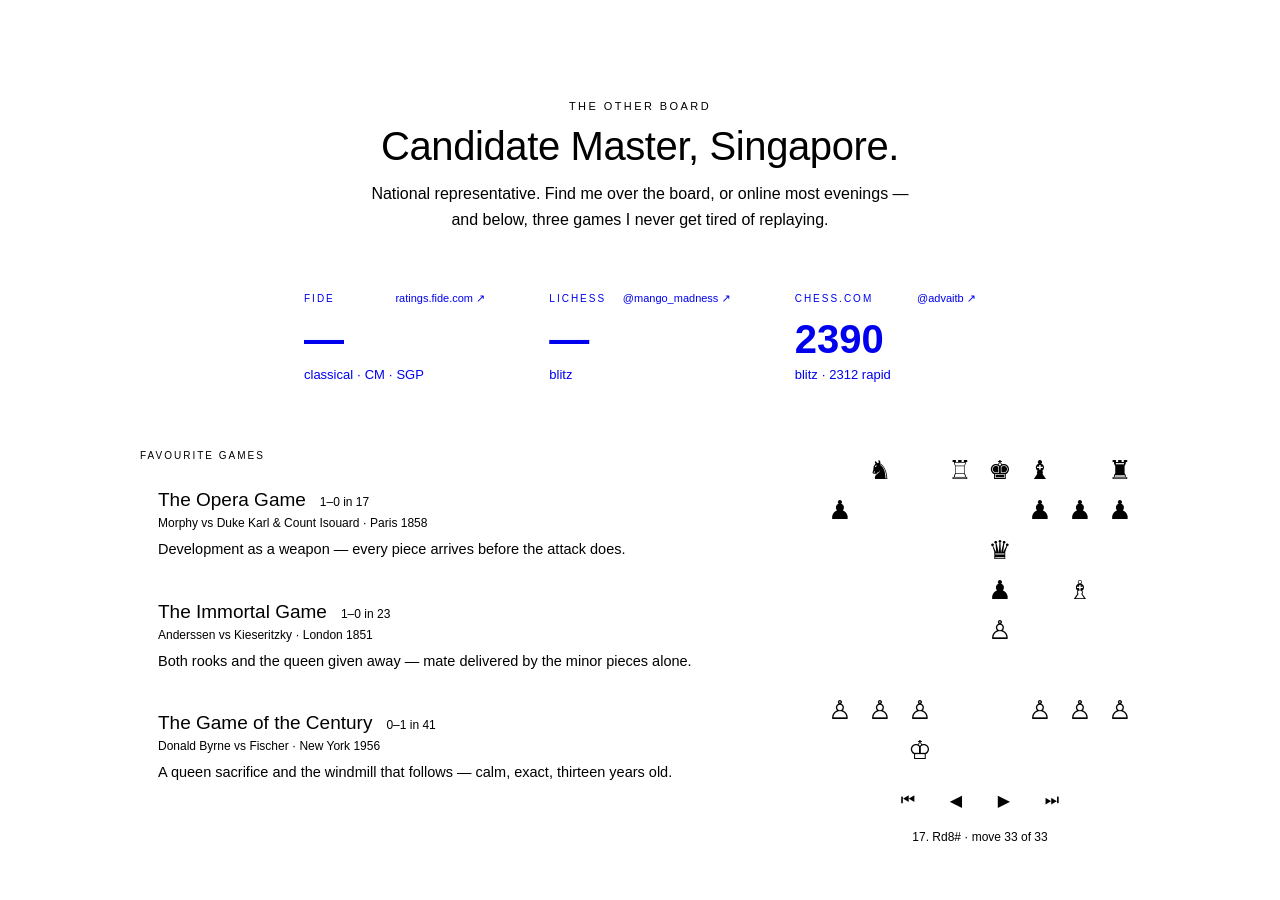
Scenario: stepping back from the final position shows the previous move
Click the button named "Back": (956,800) [938,782,974,818]
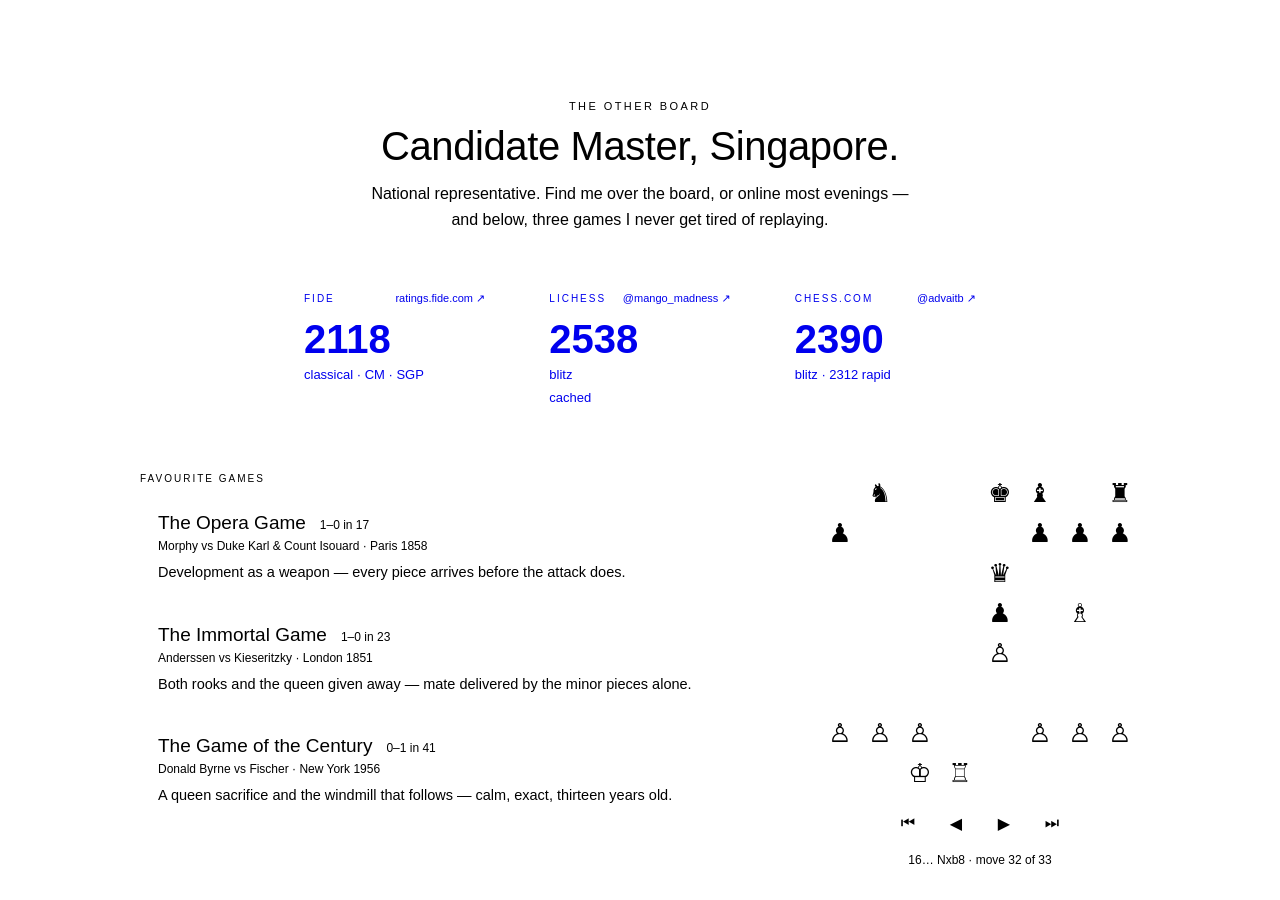
Expected: the text "16… Nxb8 · move 32 of 33" is shown, [908,853,1052,867]
